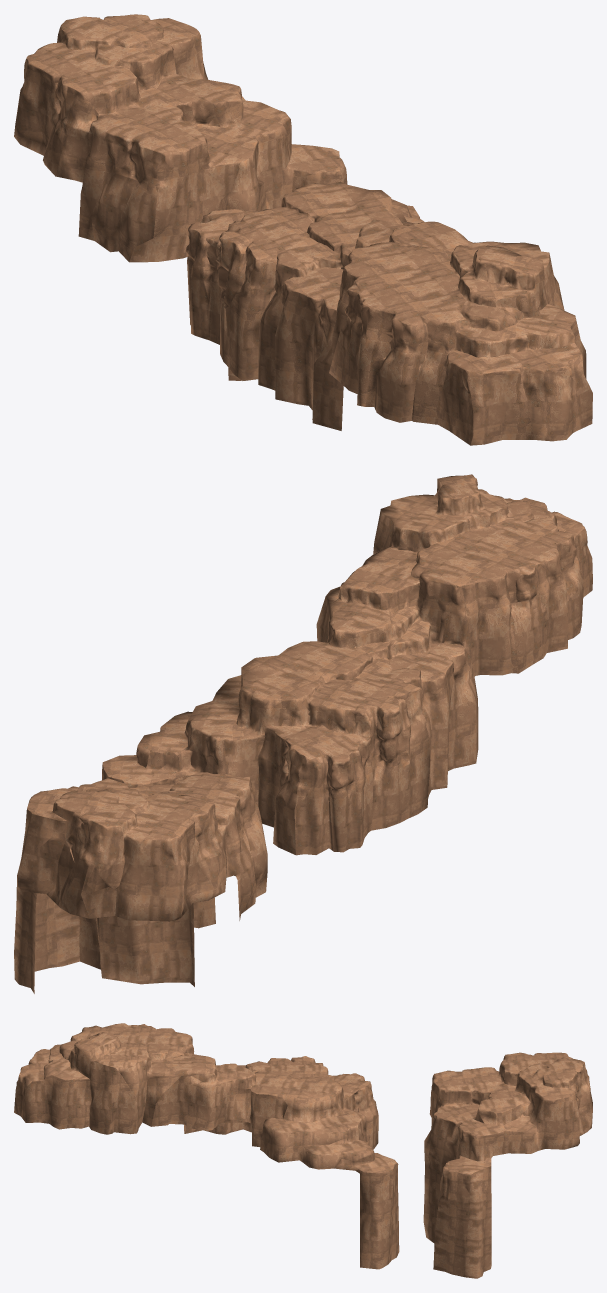
The model's file is Ob_RockCliff34.fbx.
The picture shows the model from 3 angles, top to bottom: view 1: azimuth 30°, elevation 25°; view 2: azimuth 150°, elevation 25°; view 3: azimuth 270°, elevation 25°; orthographic projection. The views are drawn at different scales.
Visible parts, largest first — view 1: Ob_RockCliff34; view 2: Ob_RockCliff34; view 3: Ob_RockCliff34.
Part boxes in pixels (x1,y1,x2,y2): Ob_RockCliff34: (14,14,592,445); Ob_RockCliff34: (14,474,592,993); Ob_RockCliff34: (14,1023,592,1278).
Size of the model in its own units: 4314 by 4743 by 12725.
